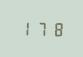eight: (49, 20, 63, 37)
one: (18, 19, 32, 36)
seven: (34, 19, 48, 37)
